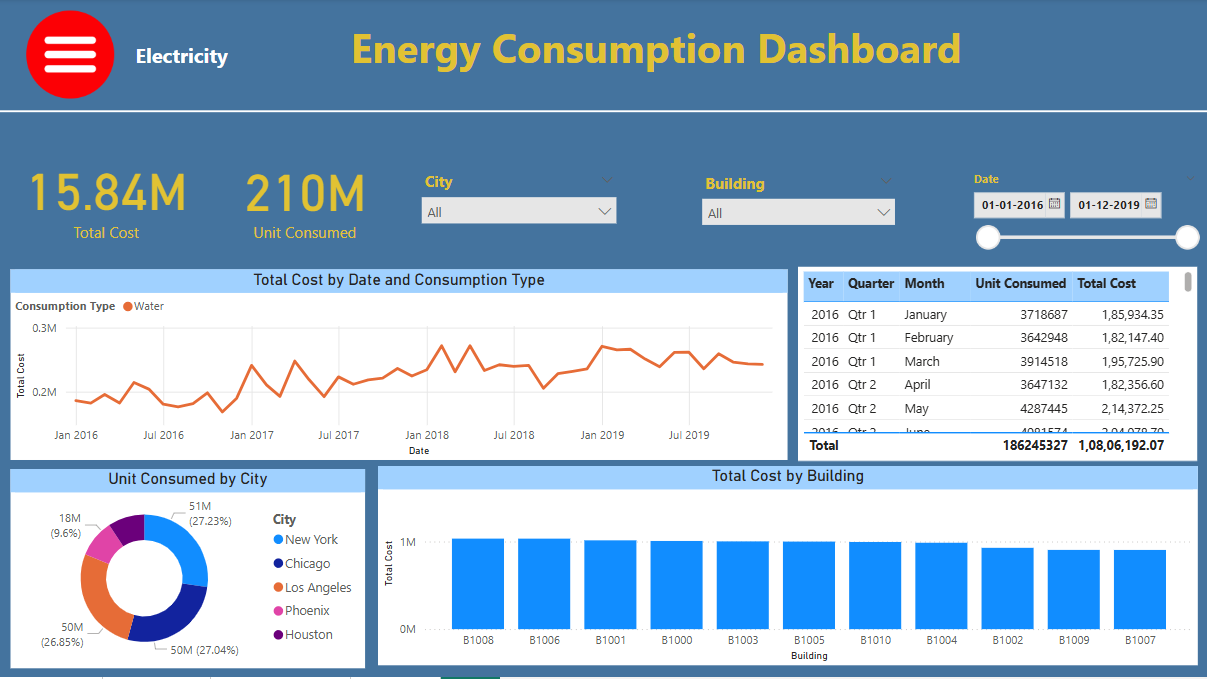

The dashboard page shown, as its layout file describes it:
{"tool":"powerbi","page":{"name":"Electricity","canvas":[1280,720],"ordinal":2},"visuals":[{"type":"shape","box":[0,97,1280.4,46.1],"z":0},{"type":"image","box":[11.5,8.2,127,103.9],"z":1000},{"type":"textbox","box":[278.4,17.5,835.1,79.5],"z":2000},{"type":"textbox","box":[138.4,39.8,112.9,41.4],"z":4000},{"type":"card","fields":{"Values":["Building Master.Total Cost"]},"box":[11.1,155.9,202,106.6],"z":5000},{"type":"card","fields":{"Values":["Energy Consumptions.Unit Consumed"]},"box":[225.9,155.9,194.1,108.2],"z":6000},{"type":"slicer","fields":{"Values":["Building Master.City"]},"box":[437.4,178.1,225.9,84.3],"z":7000},{"type":"slicer","fields":{"Values":["Energy Consumptions.Building"]},"box":[734.9,179.7,224.3,84.3],"z":8000},{"type":"slicer","fields":{"Values":["Energy Consumptions.Date"]},"box":[1019.6,178.1,260.9,108.2],"z":9000},{"type":"lineChart","fields":{"Category":["Energy Consumptions.Date"],"Y":["Building Master.Total Cost"],"Series":["Energy Consumptions.Consumption Type"]},"box":[11.3,287.2,823.9,202.2],"z":10000},{"type":"donutChart","fields":{"Category":["Building Master.City"],"Y":["Energy Consumptions.Unit Consumed"]},"box":[11.3,498.9,376.1,211.7],"z":11000},{"type":"clusteredColumnChart","fields":{"Category":["Energy Consumptions.Building"],"Y":["Building Master.Total Cost"]},"box":[400.6,497,869.3,211.7],"z":12000},{"type":"tableEx","fields":{"Values":["Energy Consumptions.Date.Variation.Date Hierarchy.Year","Energy Consumptions.Date.Variation.Date Hierarchy.Quarter","Energy Consumptions.Date.Variation.Date Hierarchy.Month","Energy Consumptions.Unit Consumed","Building Master.Total Cost"]},"box":[846.6,285.4,423.3,206],"z":13000},{"type":"actionButton","box":[26.4,13.2,100.6,97.3],"z":18000}]}

Visuals, with their boxes in screenshot pixels (x1, y1, x2, y2), scaled from the page's 1280x720 canvas onto the 1207x679 screenshot:
shape: crop(0, 91, 1206, 135)
image: crop(11, 8, 131, 106)
textbox: crop(263, 17, 1050, 91)
textbox: crop(131, 38, 237, 77)
card - Building Master.Total Cost: crop(10, 147, 201, 248)
card - Energy Consumptions.Unit Consumed: crop(213, 147, 396, 249)
slicer - Building Master.City: crop(412, 168, 625, 247)
slicer - Energy Consumptions.Building: crop(693, 169, 904, 249)
slicer - Energy Consumptions.Date: crop(961, 168, 1206, 270)
lineChart - Energy Consumptions.Date x Building Master.Total Cost: crop(11, 271, 788, 462)
donutChart - Building Master.City x Energy Consumptions.Unit Consumed: crop(11, 470, 365, 670)
clusteredColumnChart - Energy Consumptions.Building x Building Master.Total Cost: crop(378, 469, 1197, 668)
tableEx - Energy Consumptions.Date.Variation.Date Hierarchy.Year x Energy Consumptions.Date.Variation.Date Hierarchy.Quarter: crop(798, 269, 1197, 463)
actionButton: crop(25, 12, 120, 104)
